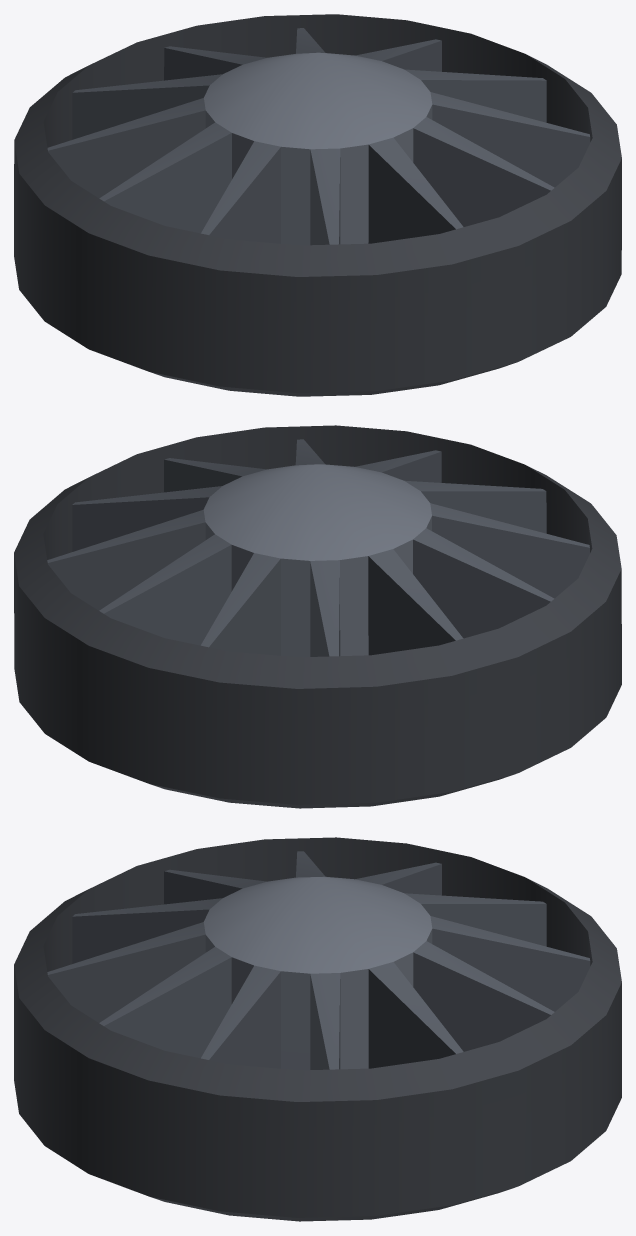
Rendered from Propellor.glb.
3 views of the same model, one above another, from view 1: azimuth 30°, elevation 25°; view 2: azimuth 150°, elevation 25°; view 3: azimuth 270°, elevation 25° (orthographic).
Visible parts, largest first — view 1: Propellor; view 2: Propellor; view 3: Propellor.
Boxes of the visible parts, x1,y1,x2,y2 form: Propellor: (14, 14, 621, 396); Propellor: (14, 425, 621, 808); Propellor: (14, 837, 621, 1221).
Size of what is drawn, in the model's own units: 0.9203 by 0.3819 by 0.92.
Materials: 1 (1 with a texture image).
